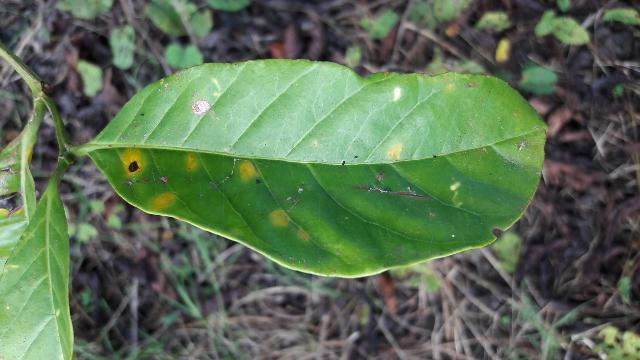rust_level_2: (79, 59, 548, 277)
